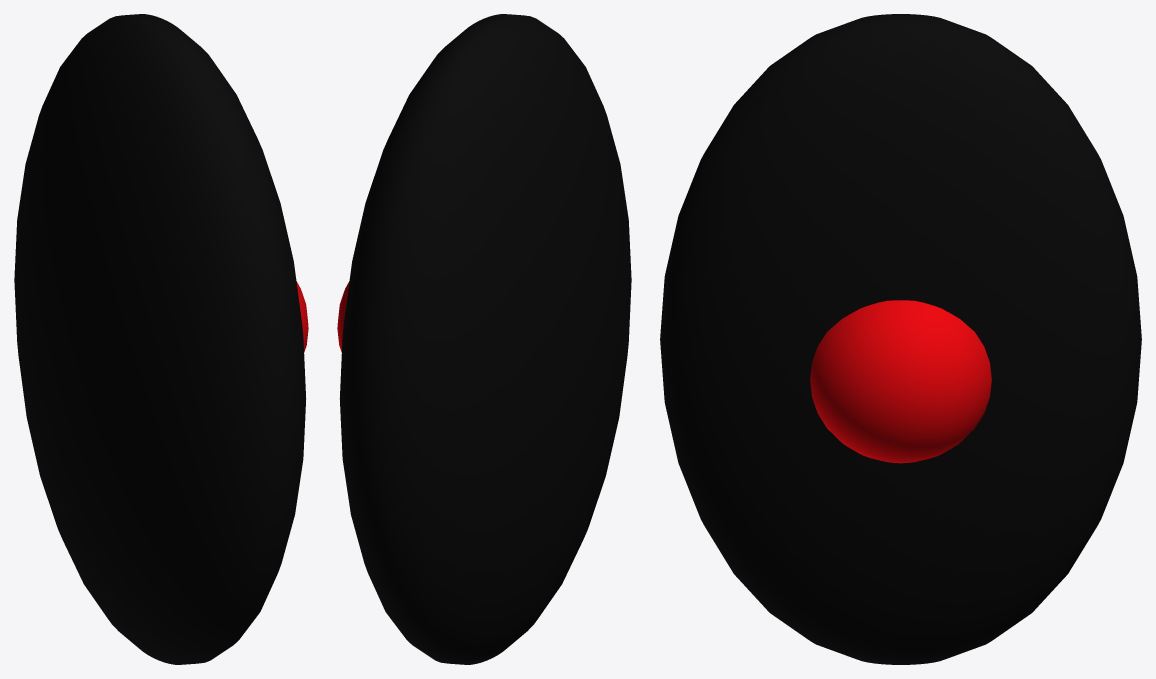
Rendered from Portal 1.fbx.
3 renders of one model, left to right at view 1: azimuth 30°, elevation 25°; view 2: azimuth 150°, elevation 25°; view 3: azimuth 270°, elevation 25°, orthographic. The views are drawn at different scales.
Parts seen in each view (by area): view 1: Sphere; view 2: Sphere; view 3: Sphere, Sphere.001.
Part boxes in pixels (x1=…): Sphere: x1=14, y1=14, x2=306, y2=664; Sphere: x1=339, y1=14, x2=631, y2=664; Sphere: x1=660, y1=14, x2=1141, y2=664; Sphere.001: x1=810, y1=300, x2=991, y2=463.
Size of the model in its own units: 110 by 296 by 200.
